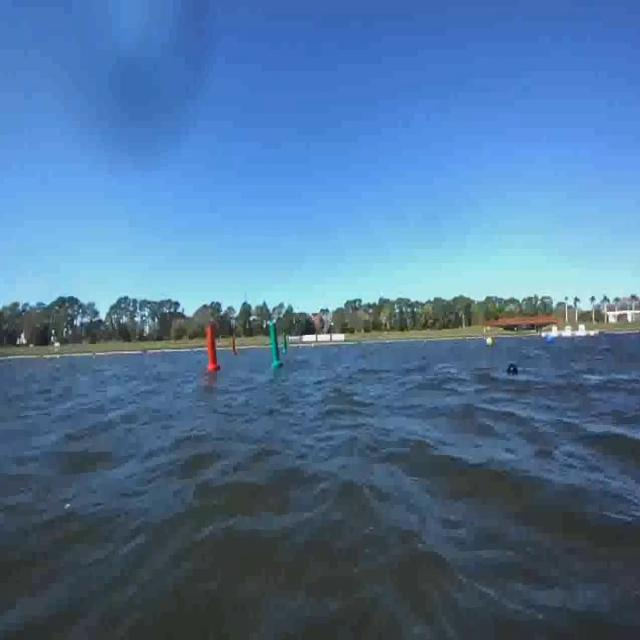black-buoy: (504, 361, 522, 378)
blue-buoy: (545, 333, 554, 348)
green-column-buoy: (268, 323, 284, 370), (283, 336, 288, 351)
red-column-buoy: (206, 325, 222, 371), (232, 338, 240, 357)
yellow-buoy: (486, 336, 494, 349)
